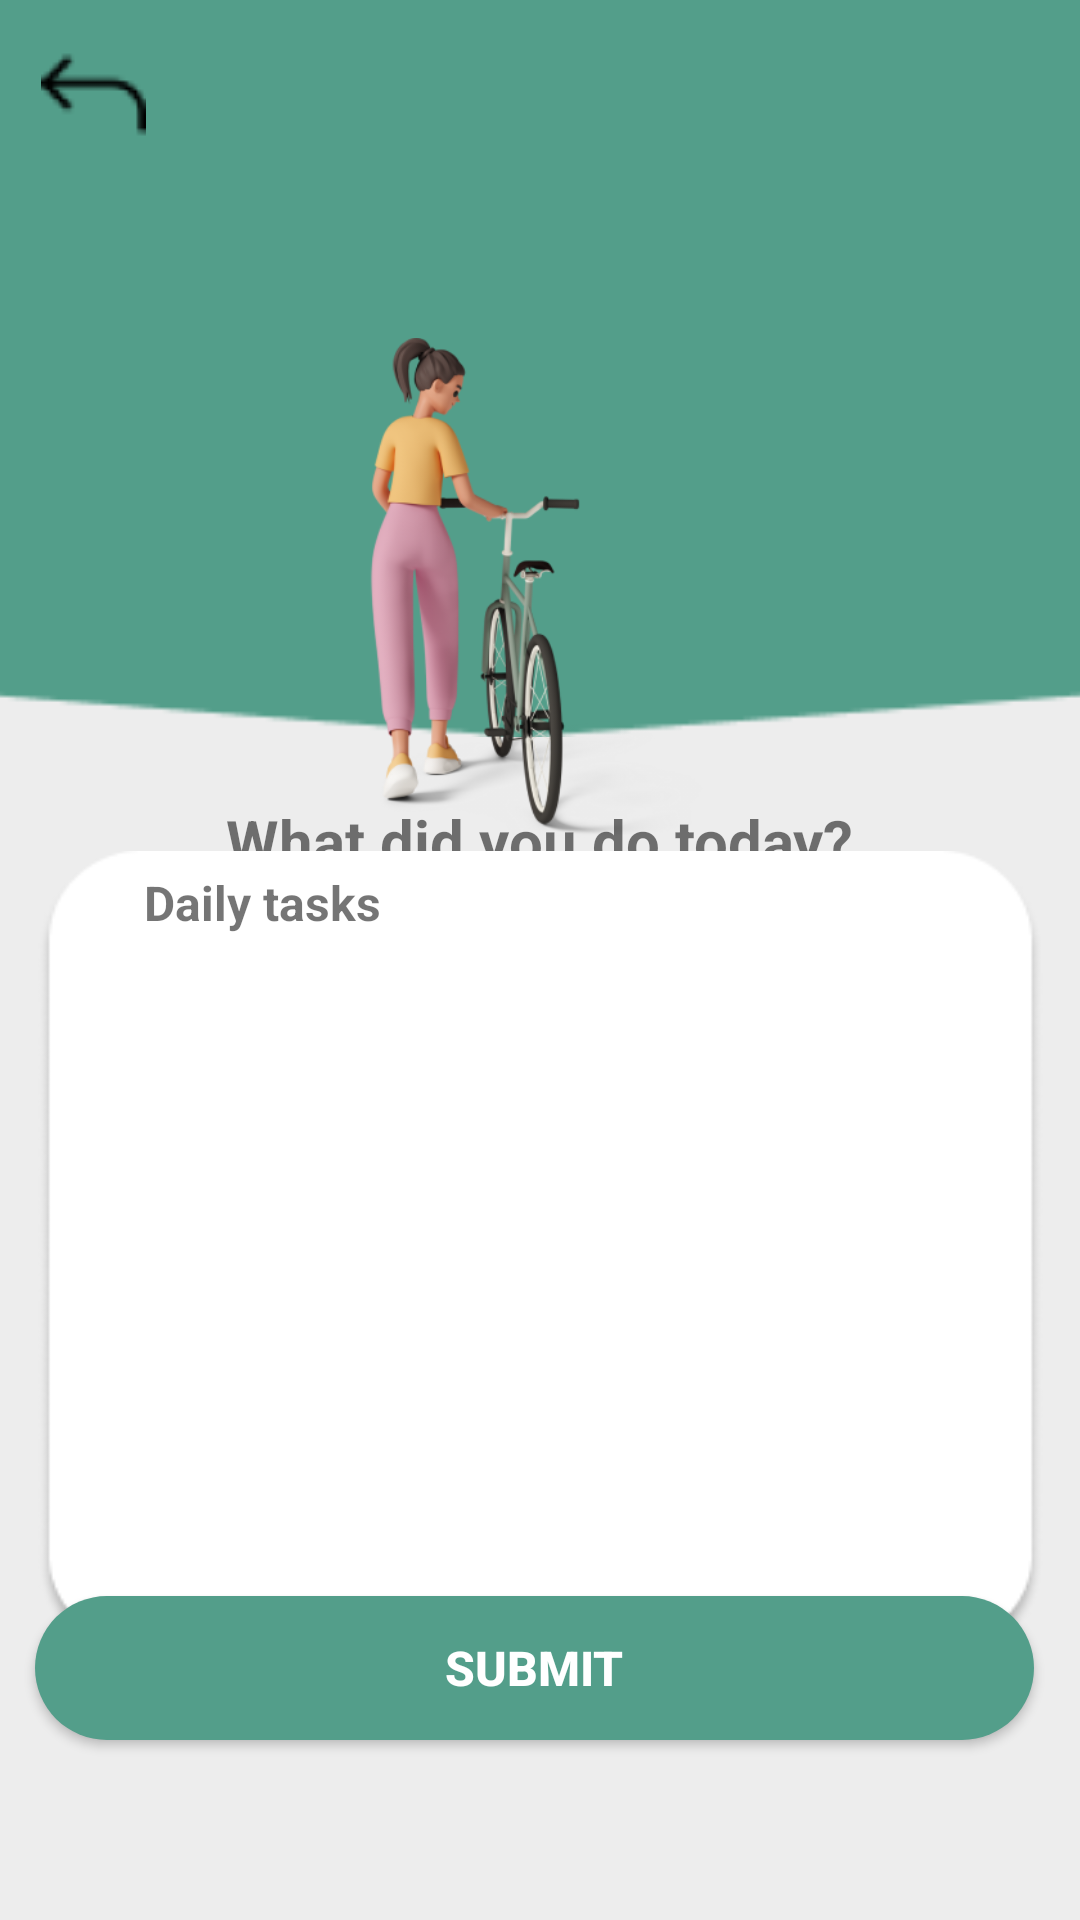

Point at icon controls on the screen. Image size 1080px x 1920px, points as point (x, y).
backbutton: point (93, 95)
